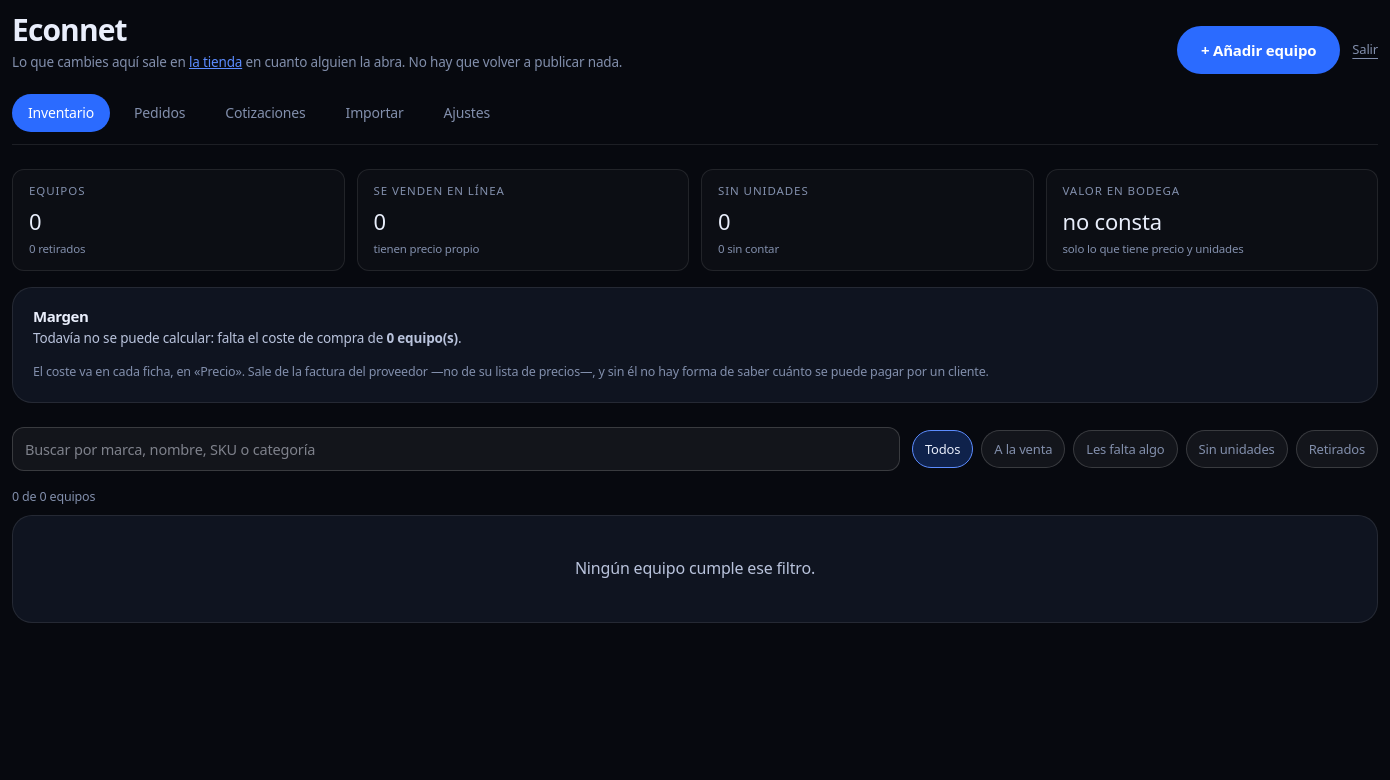
Test: cotizaciones › una cerrada no ofrece botones de cierre
The image size is (1390, 780).
What coordinates should you click on to do the following:
click the button "Cotizaciones"
I would click on:
 (265, 113)
Its box is x1=209 y1=94 x2=322 y2=132.
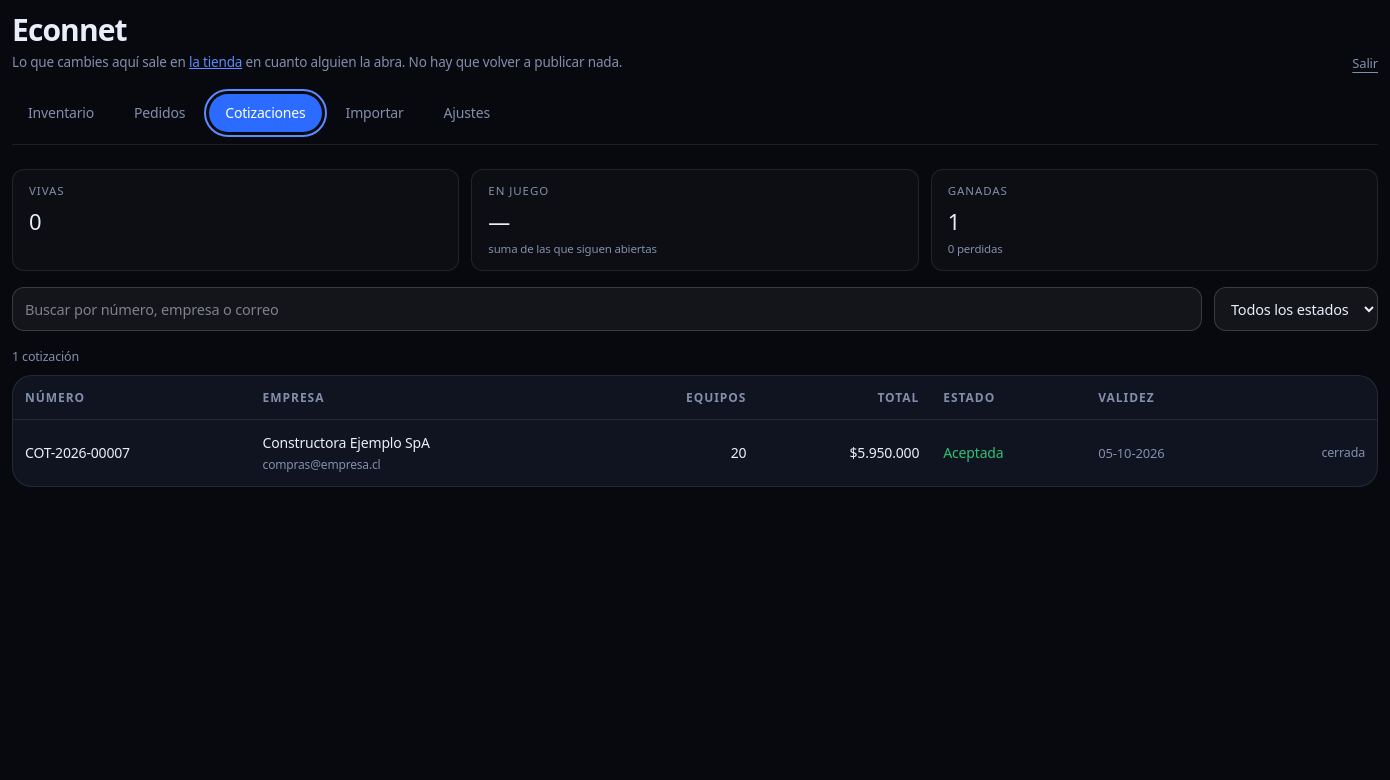
Now the text "cerrada" is shown, box x1=1321 y1=444 x2=1365 y2=461
